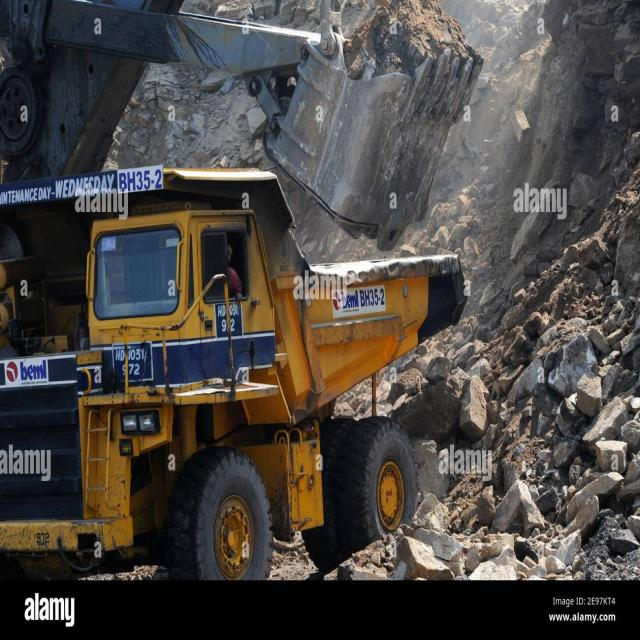dump_truck: (0, 179, 461, 610)
excavator: (96, 3, 512, 236)
